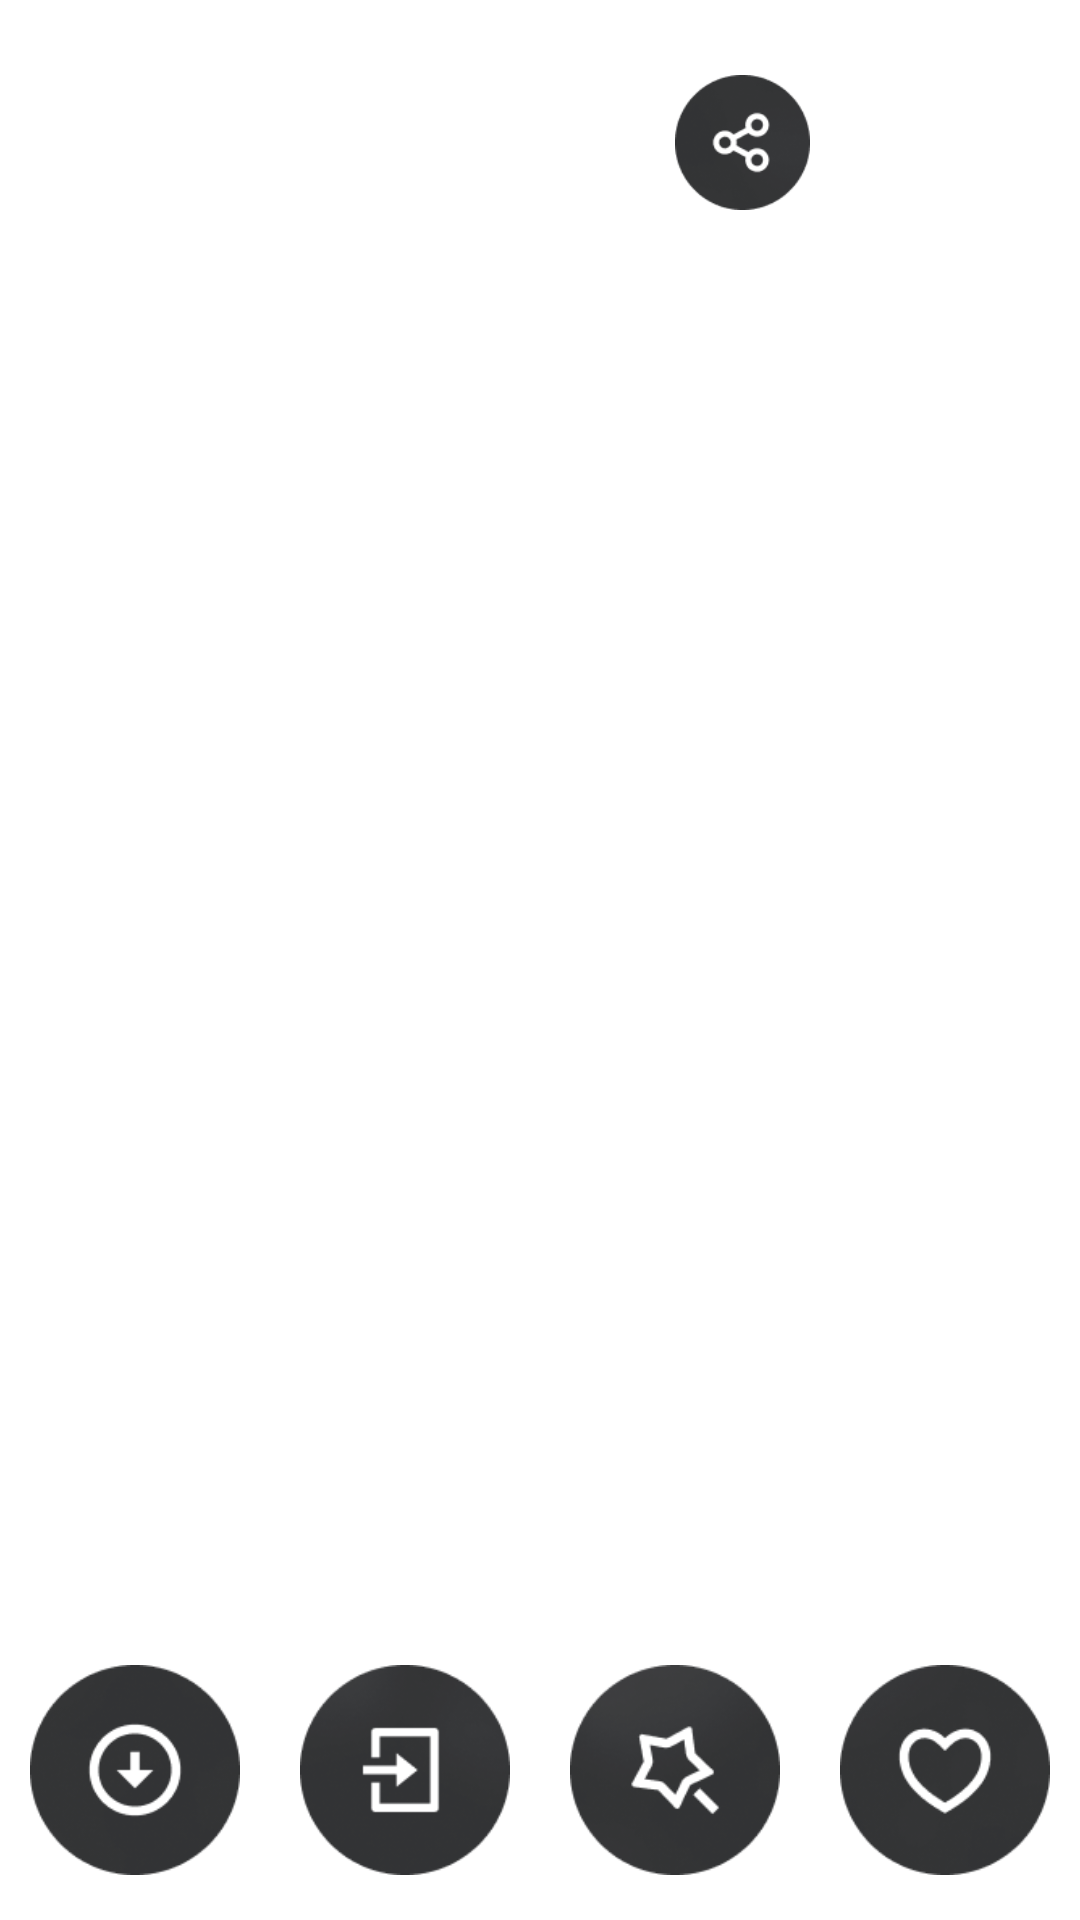

Locate icon controls on the screen. Image size 1080 × 1920, boxes as (x1, y1, x2, y2).
download: (30, 1665, 240, 1875)
edit: (570, 1665, 780, 1875)
like: (840, 1665, 1050, 1875)
set: (300, 1665, 510, 1875)
share: (675, 75, 810, 210)
